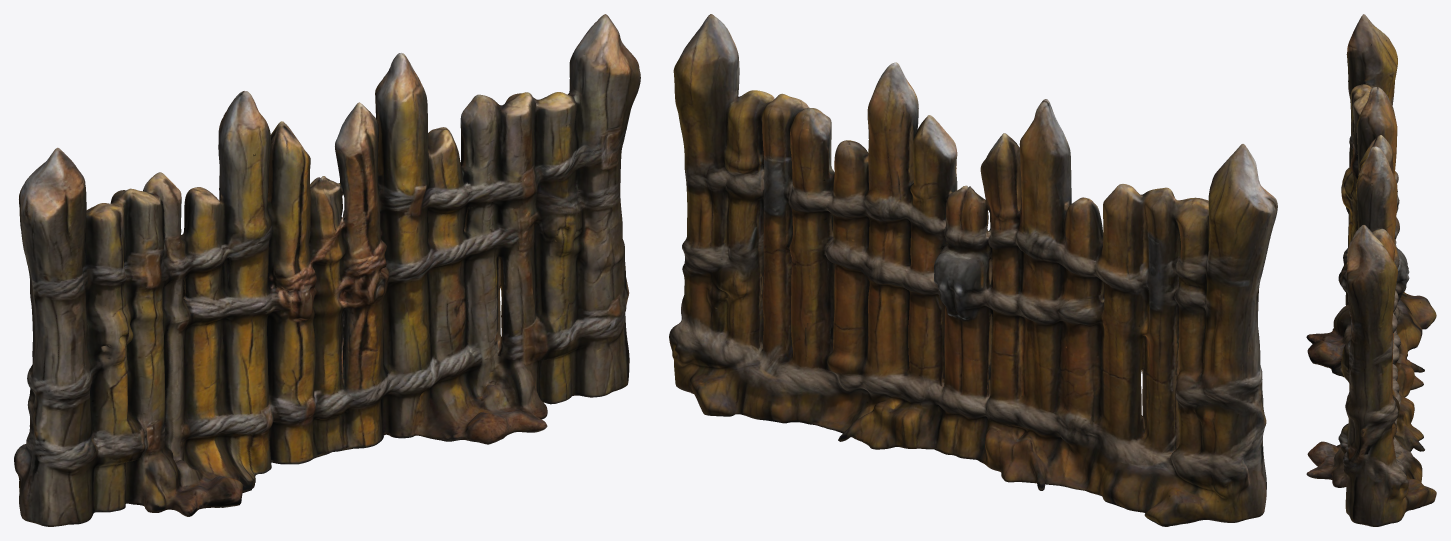
File: zaun_knochen_original.glb
The picture shows the model from 3 angles, left to right: view 1: azimuth 30°, elevation 25°; view 2: azimuth 150°, elevation 25°; view 3: azimuth 270°, elevation 25°; orthographic projection. The views are drawn at different scales.
Bounding box in the file's own units: 2 × 1.17 × 0.4665.
Materials: 1 (1 with a texture image).
